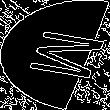M_E: (7, 26, 103, 84)
